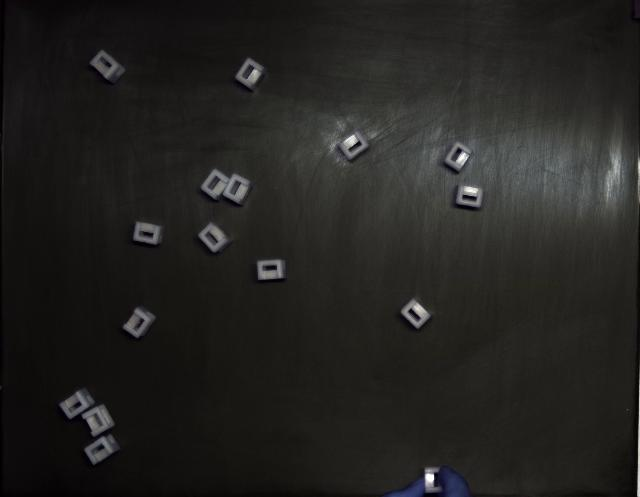fourth_side: (90, 50, 125, 84), (81, 405, 115, 438), (59, 389, 95, 420), (59, 389, 95, 420), (84, 435, 120, 465), (122, 308, 156, 339), (235, 58, 266, 91), (199, 222, 232, 253), (222, 174, 252, 205), (201, 169, 230, 201), (401, 299, 431, 329), (339, 131, 369, 160), (444, 141, 472, 172), (132, 221, 165, 245), (456, 185, 484, 208), (258, 260, 286, 281)
